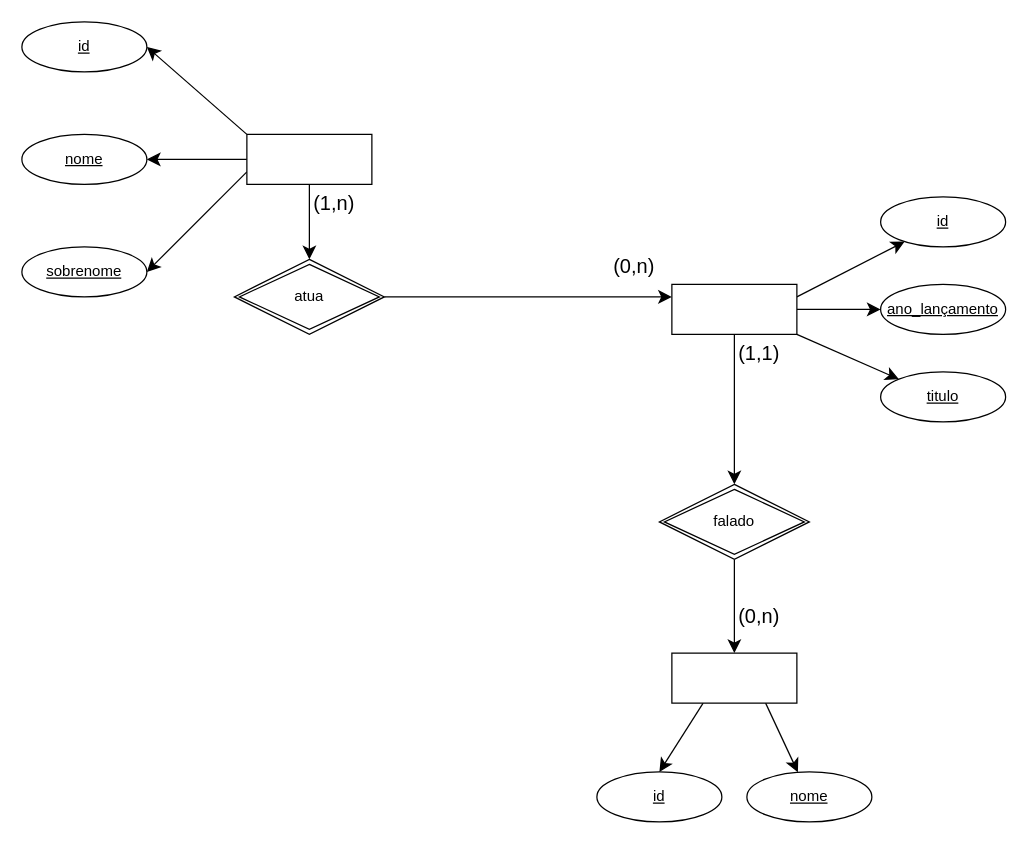
This 1028x844 diagram has some shape labels left out. The box of each missing label's shape, as (x1, y1, x2, y2) in pixels:
ator: (246, 133, 372, 184)
filme: (671, 283, 797, 334)
Idioma: (671, 652, 797, 703)
